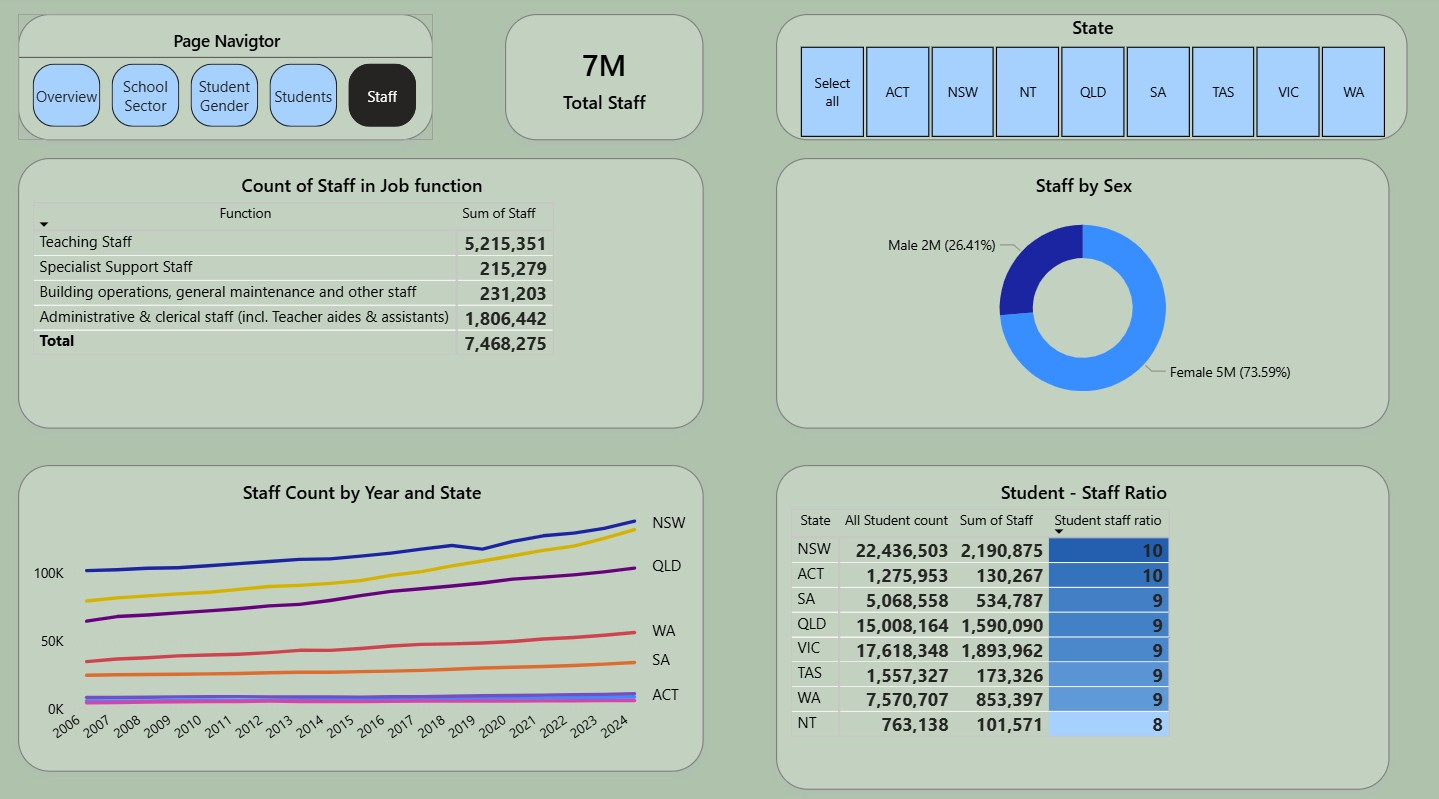

What the dashboard file says about the page in this screenshot:
{"tool":"powerbi","page":{"name":"Staff","canvas":[1280,720],"ordinal":5},"visuals":[{"type":"card","fields":{"Values":["Sum(Staff.Staff)"]},"box":[464,16,152,112],"z":0},{"type":"donutChart","title":"Staff by Sex","fields":{"Category":["Staff.Sex"],"Y":["Sum(Staff.Staff)"]},"box":[688,144,544,240],"z":2000},{"type":"pivotTable","title":"Count of Staff in Job function","fields":{"Rows":["Staff.Function"],"Values":["Sum(Staff.Staff)"]},"box":[16,144,608,240],"z":3000},{"type":"lineChart","title":"Staff Count by Year and State","fields":{"Y":["Sum(Staff.Staff)"],"Category":["DimDates.Year"],"Series":["DimState.State"]},"box":[16,416,608,272],"z":4000},{"type":"slicer","title":"State","fields":{"Values":["DimState.State"]},"box":[688,16,560,112],"z":5000},{"type":"pivotTable","title":"Student - Staff Ratio","fields":{"Rows":["DimState.State"],"Values":["All Measures.All Student count","Sum(Staff.Staff)","All Measures.Student staff ration"]},"box":[688,416,544,288],"z":7000},{"type":"pageNavigator","title":"Page Navigtor","box":[16,8,344,128],"z":7001}]}

Visuals, with their boxes in screenshot pixels (x1, y1, x2, y2), scaled from the page's 1280x720 canvas onto the 1439x799 screenshot:
card - Sum(Staff.Staff): box(522, 18, 693, 142)
"Staff by Sex" donutChart: box(773, 160, 1385, 426)
"Count of Staff in Job function" pivotTable: box(18, 160, 702, 426)
"Staff Count by Year and State" lineChart: box(18, 462, 702, 763)
"State" slicer: box(773, 18, 1403, 142)
"Student - Staff Ratio" pivotTable: box(773, 462, 1385, 781)
"Page Navigtor" pageNavigator: box(18, 9, 405, 151)
